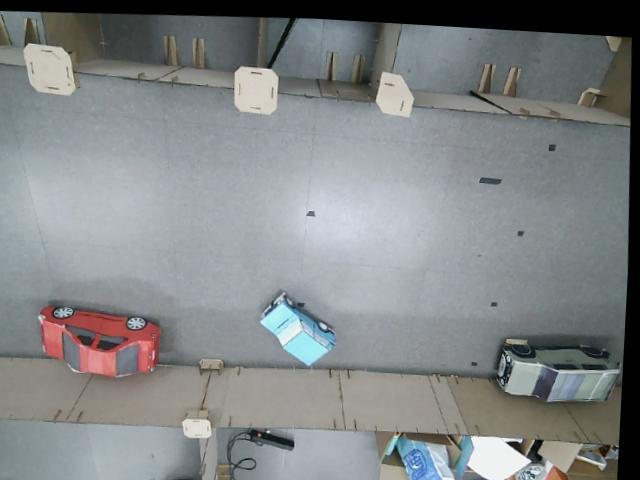car: (33, 298, 166, 384), (492, 335, 624, 408), (254, 287, 342, 372)
